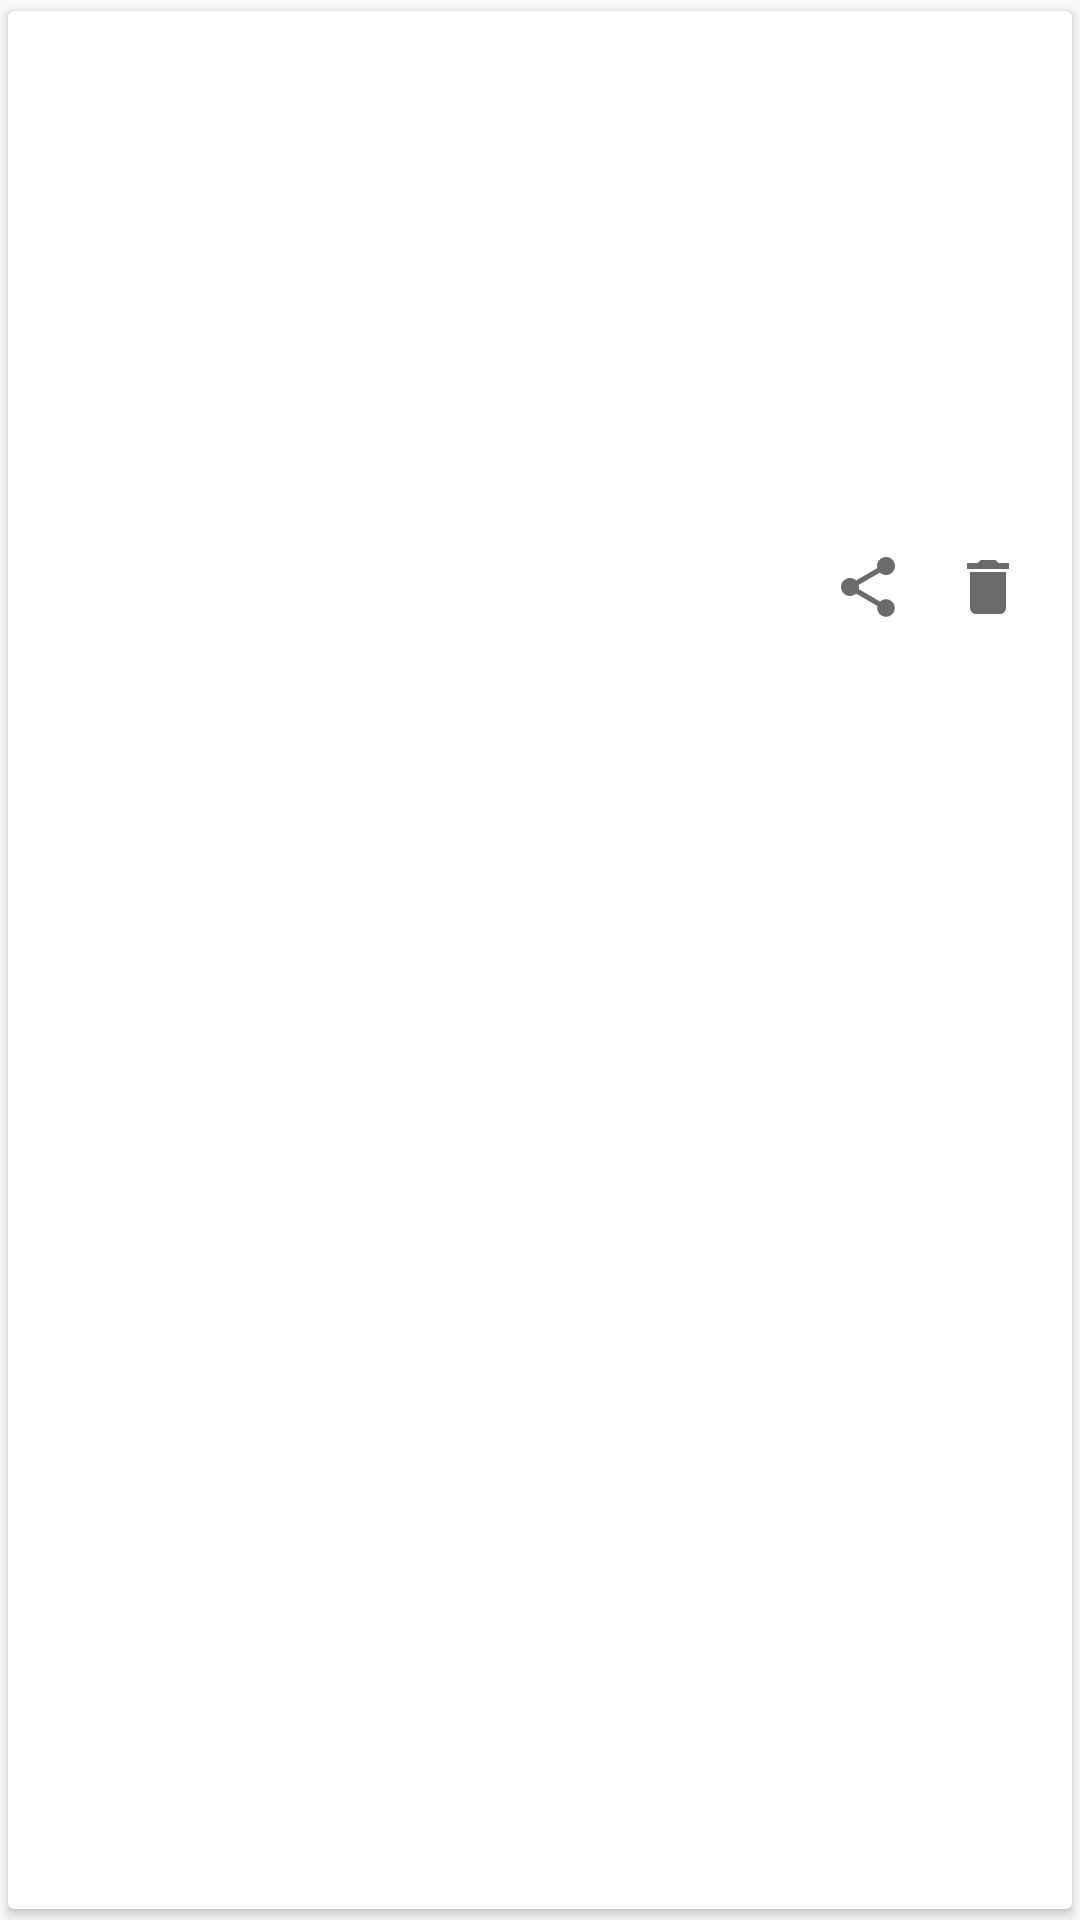

Screen size 1080w x 1920h. Icon name, then its box in pixels as bbox(x1, y1, x2, y2):
delete: bbox(967, 560, 1009, 614)
share: bbox(841, 557, 895, 617)
